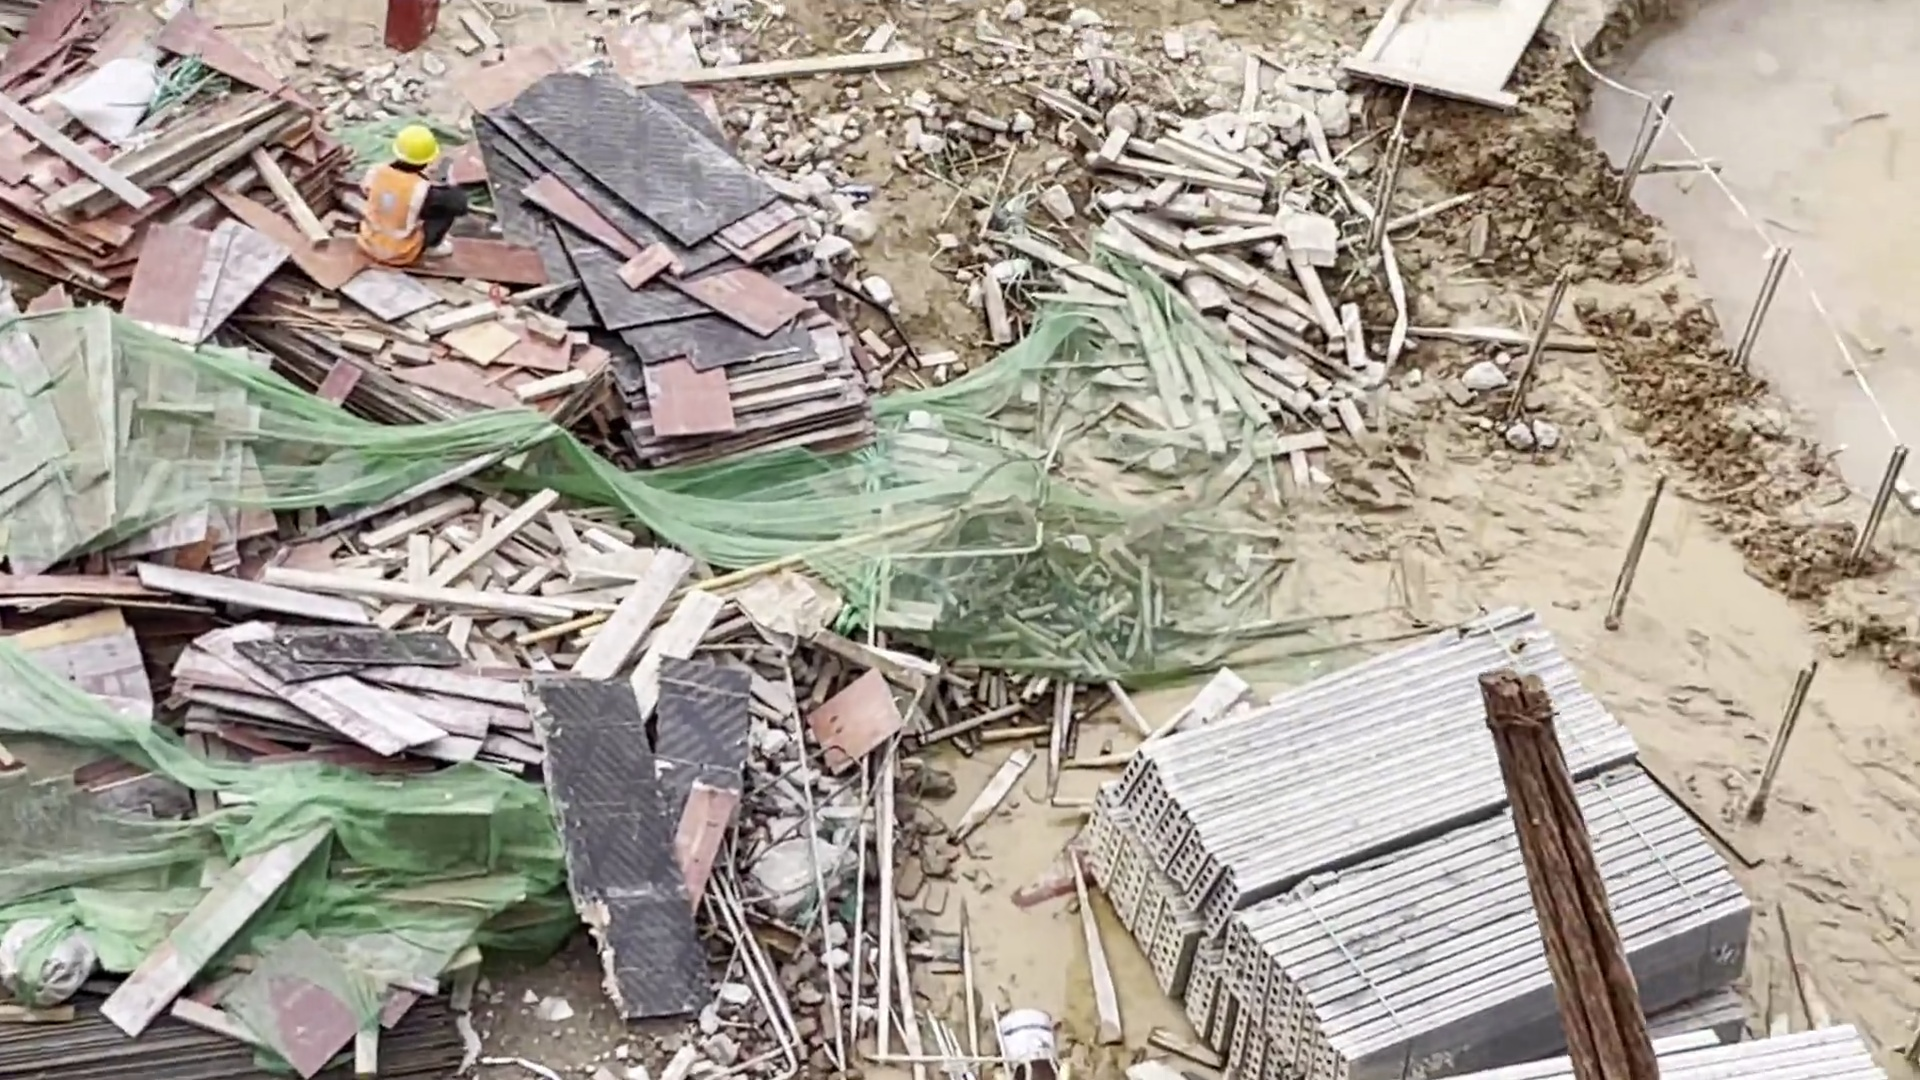helmet: (391, 127, 437, 164)
person: (363, 124, 473, 268)
vest: (363, 168, 429, 269)
